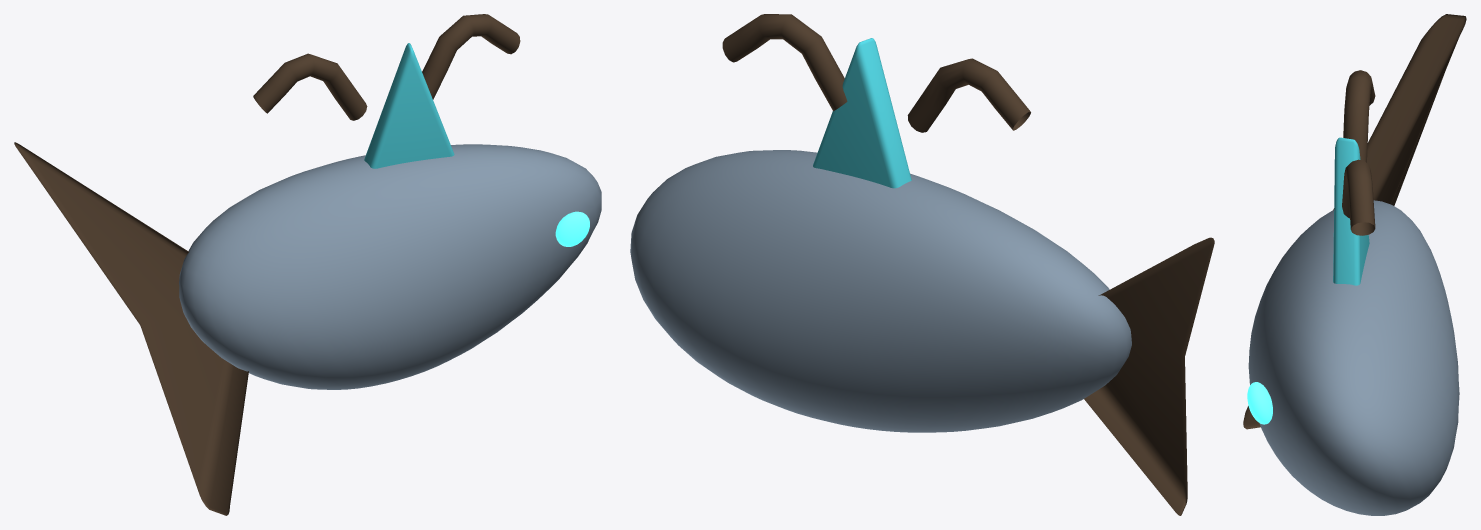
File: aquatic_v8.glb
The picture shows the model from 3 angles, left to right: view 1: azimuth 30°, elevation 25°; view 2: azimuth 150°, elevation 25°; view 3: azimuth 270°, elevation 25°; orthographic projection. The views are drawn at different scales.
Parts seen in each view (by area): view 1: SHARK_BODY_PRIMARY, SHARK_TAIL_SECONDARY, SHARK_DORSAL_ACCENT, SWEEP_ANTLER_SECONDARY, SWEEP_ANTLER_SECONDARY.001, EYE_EMISSIVE; view 2: SHARK_BODY_PRIMARY, SHARK_TAIL_SECONDARY, SHARK_DORSAL_ACCENT, SWEEP_ANTLER_SECONDARY.001, SWEEP_ANTLER_SECONDARY; view 3: SHARK_BODY_PRIMARY, SHARK_TAIL_SECONDARY, SHARK_DORSAL_ACCENT, SWEEP_ANTLER_SECONDARY.001, SWEEP_ANTLER_SECONDARY, EYE_EMISSIVE.
Boxes of the visible parts, x1,y1,x2,y2 form: SHARK_BODY_PRIMARY: (179,144,601,389); SHARK_TAIL_SECONDARY: (14,142,248,515); SHARK_DORSAL_ACCENT: (364,43,454,168); SWEEP_ANTLER_SECONDARY: (253,53,367,120); SWEEP_ANTLER_SECONDARY.001: (422,14,520,99); EYE_EMISSIVE: (555,211,589,246); SHARK_BODY_PRIMARY: (630,150,1131,432); SHARK_TAIL_SECONDARY: (1084,237,1214,515); SHARK_DORSAL_ACCENT: (813,38,911,188); SWEEP_ANTLER_SECONDARY.001: (722,14,847,110); SWEEP_ANTLER_SECONDARY: (907,58,1030,132); SHARK_BODY_PRIMARY: (1248,200,1459,515); SHARK_TAIL_SECONDARY: (1243,14,1466,429); SHARK_DORSAL_ACCENT: (1333,137,1369,285); SWEEP_ANTLER_SECONDARY.001: (1342,159,1375,235); SWEEP_ANTLER_SECONDARY: (1343,70,1375,162); EYE_EMISSIVE: (1247,382,1272,424).
Size of the model in its own units: 2.99 by 2.07 by 0.9908.
